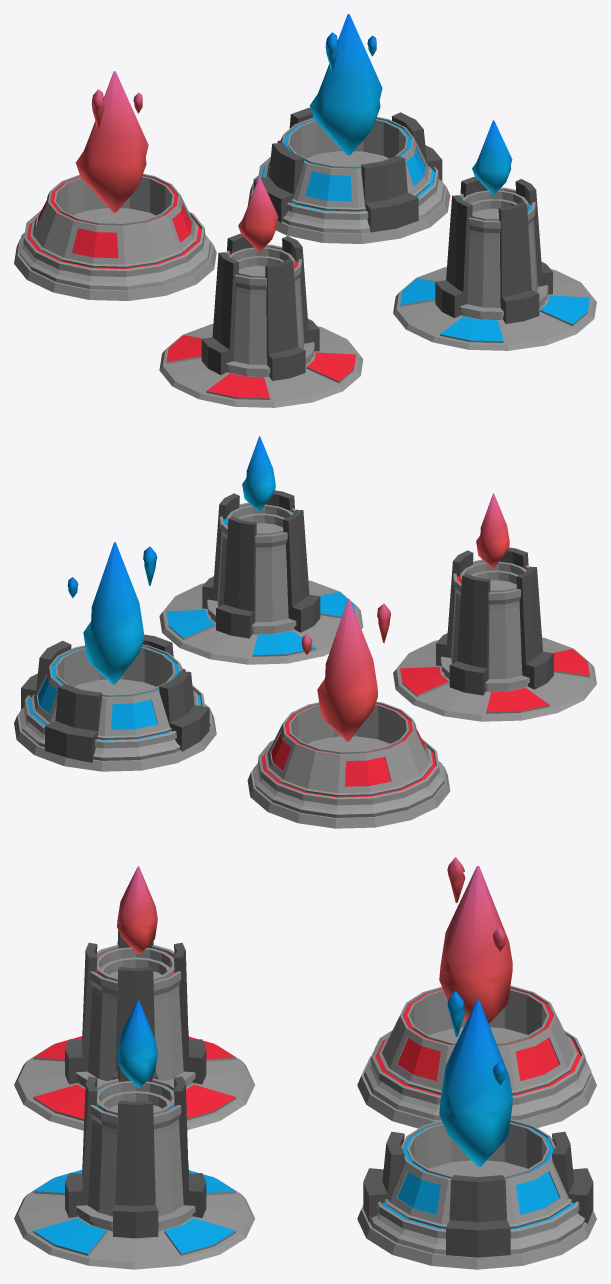
File: MOBABuildings.fbx
The picture shows the model from 3 angles, top to bottom: view 1: azimuth 30°, elevation 25°; view 2: azimuth 150°, elevation 25°; view 3: azimuth 270°, elevation 25°; orthographic projection. The views are drawn at different scales.
Parts seen in each view (by area): view 1: Blue Base, Red Base, Blue Tower, Red Tower; view 2: Blue Base, Red Base, Red Tower, Blue Tower; view 3: Blue Base, Blue Tower, Red Base, Red Tower.
Boxes of the visible parts, x1,y1,x2,y2 form: Blue Base: (247,14,450,243); Red Base: (14,71,216,300); Blue Tower: (393,120,596,350); Red Tower: (159,177,363,407); Blue Base: (14,542,216,771); Red Base: (247,599,450,828); Red Tower: (393,493,596,721); Blue Tower: (159,436,363,664); Blue Base: (357,991,596,1269); Blue Tower: (14,1000,254,1269); Red Base: (357,857,596,1128); Red Tower: (14,866,254,1130).
Bounding box in the file's own units: 462 × 200 × 483.
